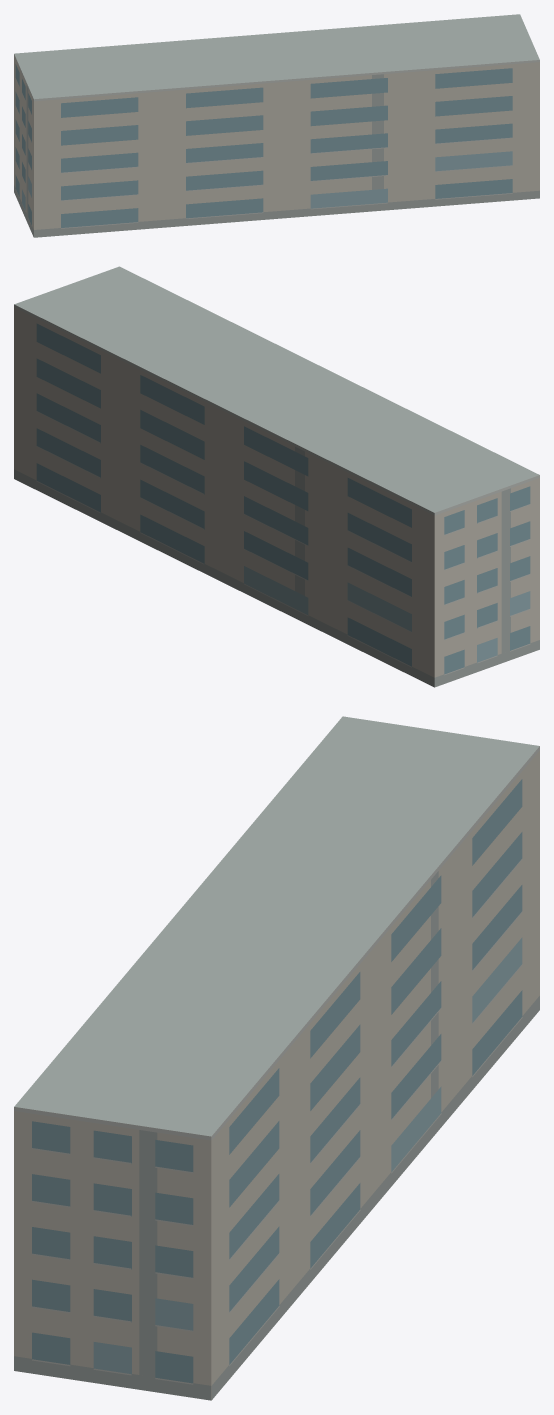
Rendered from residential-b3312945-bfe0-487a-bf79-b13ee5fbc481.glb.
The picture shows the model from 3 angles, top to bottom: view 1: azimuth 30°, elevation 25°; view 2: azimuth 150°, elevation 25°; view 3: azimuth 270°, elevation 25°; orthographic projection. The views are drawn at different scales.
Parts seen in each view (by area): view 1: residential-b3312945-bfe0-487a-bf79-b13ee5fbc481.tmp; view 2: residential-b3312945-bfe0-487a-bf79-b13ee5fbc481.tmp; view 3: residential-b3312945-bfe0-487a-bf79-b13ee5fbc481.tmp.
Boxes of the visible parts, <box> form: residential-b3312945-bfe0-487a-bf79-b13ee5fbc481.tmp: <box>14,14,539,237</box>; residential-b3312945-bfe0-487a-bf79-b13ee5fbc481.tmp: <box>14,266,539,687</box>; residential-b3312945-bfe0-487a-bf79-b13ee5fbc481.tmp: <box>14,716,539,1400</box>.
Size of the model in its own units: 52.05 by 15.25 by 27.53.
